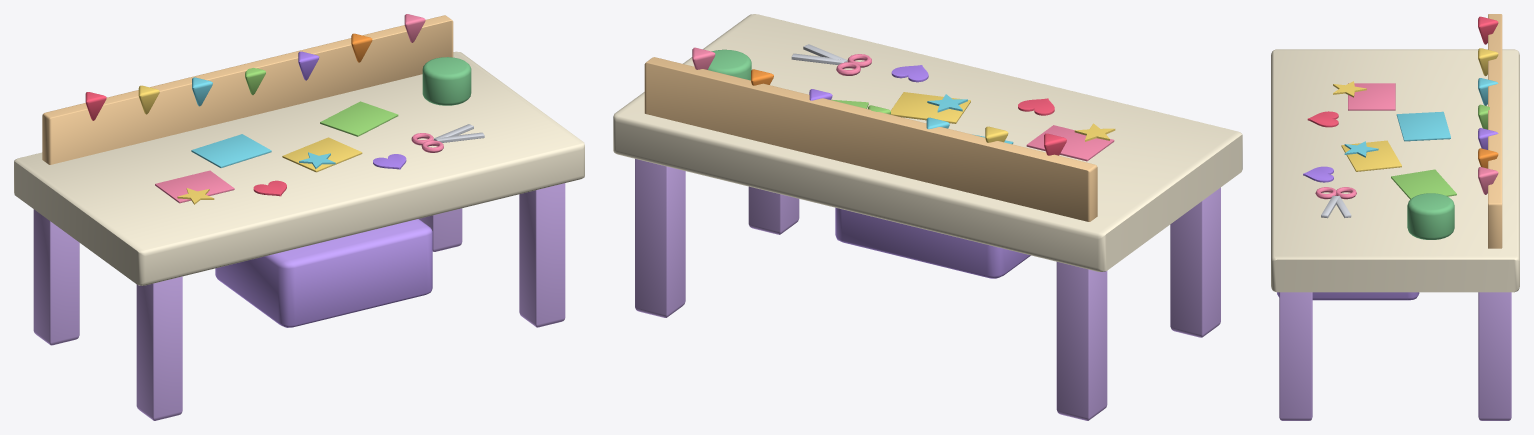
Rendered from object-craft-table.glb.
3 views of the same model, side by side, from view 1: azimuth 30°, elevation 25°; view 2: azimuth 150°, elevation 25°; view 3: azimuth 270°, elevation 25° (orthographic). The views are drawn at different scales.
Parts seen in each view (by area): view 1: Node_0-mesh; view 2: Node_0-mesh, part-blade-b-mesh; view 3: Node_0-mesh, part-blade-a-mesh, part-blade-b-mesh, cutout-1, cutout-3, bunting-0, bunting-6, bunting-1, cutout-2, cutout-0, bunting-5, bunting-2 (+1 smaller).
Boxes of the visible parts, box(x1,y1,x2,y2) form: Node_0-mesh: box(14, 15, 584, 420); Node_0-mesh: box(613, 14, 1242, 420); part-blade-b-mesh: box(791, 53, 871, 67); Node_0-mesh: box(1271, 14, 1519, 420); part-blade-a-mesh: box(1321, 187, 1356, 218); part-blade-b-mesh: box(1315, 187, 1351, 217); cutout-1: box(1307, 111, 1338, 127); cutout-3: box(1303, 166, 1333, 182); bunting-0: box(1478, 16, 1498, 44); bunting-6: box(1478, 167, 1498, 194); bunting-1: box(1478, 48, 1498, 76); cutout-2: box(1344, 141, 1378, 157); cutout-0: box(1333, 81, 1366, 97); bunting-5: box(1478, 148, 1498, 168); bunting-2: box(1478, 78, 1498, 105).
Bounding box in the file's own units: 2.1 × 1.07 × 1.05.
